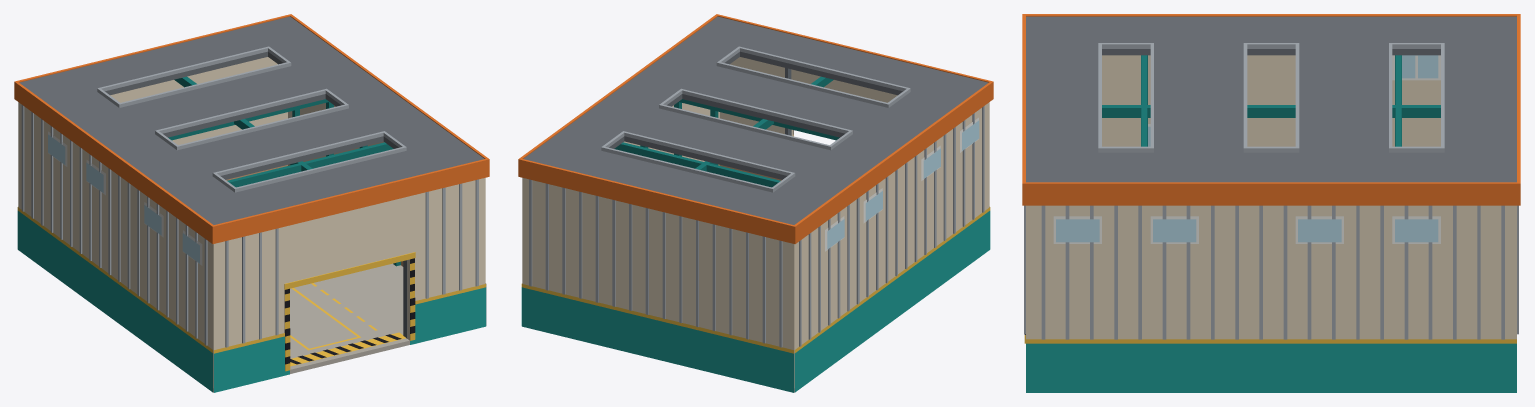
The model's file is NaveCarga.fbx.
The picture shows the model from 3 angles, left to right: view 1: azimuth 30°, elevation 25°; view 2: azimuth 150°, elevation 25°; view 3: azimuth 270°, elevation 25°; orthographic projection. The views are drawn at different scales.
Visible parts, largest first — view 1: NaveCarga; view 2: NaveCarga; view 3: NaveCarga.
Part boxes in pixels (bbox=[...]): NaveCarga: bbox=[14, 14, 489, 392]; NaveCarga: bbox=[518, 14, 993, 392]; NaveCarga: bbox=[1022, 14, 1520, 392].
Size of the model in its own units: 33.2 by 19.5 by 41.2.
Materials: 1 (1 with a texture image).
